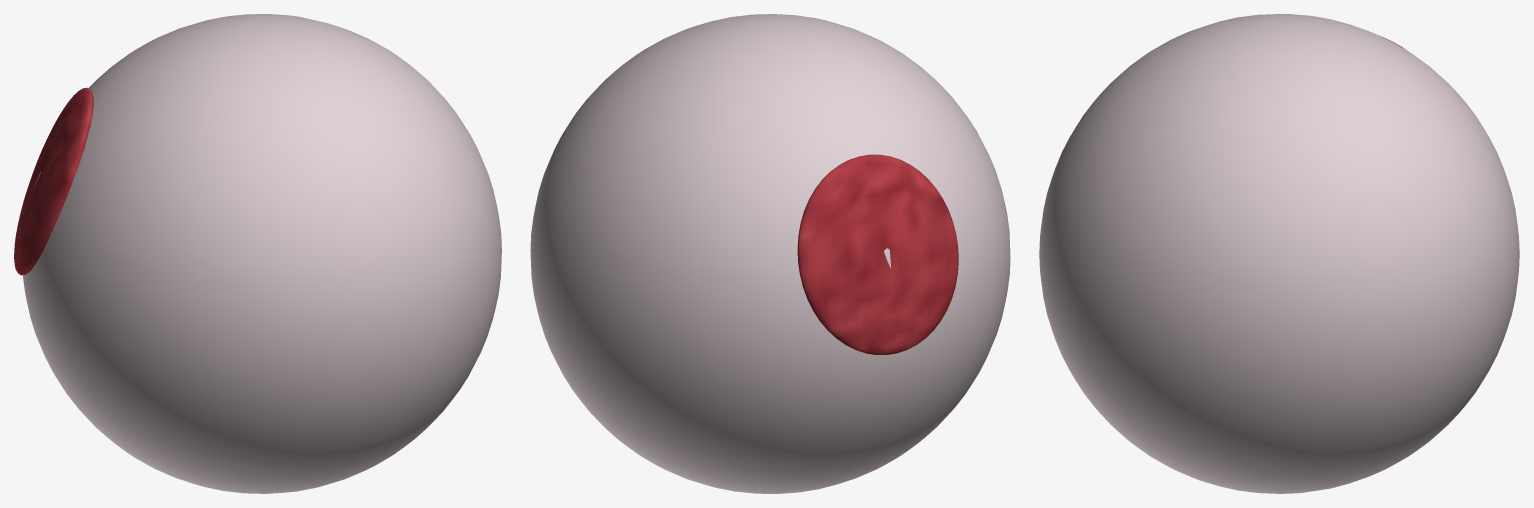
The model's file is hafta_40.glb.
The picture shows the model from 3 angles, left to right: view 1: azimuth 30°, elevation 25°; view 2: azimuth 150°, elevation 25°; view 3: azimuth 270°, elevation 25°; orthographic projection.
Visible parts, largest first — view 1: Amniyon_kesesi, Plasenta; view 2: Amniyon_kesesi, Plasenta; view 3: Amniyon_kesesi.
Boxes of the visible parts, box(x1,y1,x2,y2) form: Amniyon_kesesi: box(22, 14, 501, 493); Plasenta: box(14, 87, 93, 275); Amniyon_kesesi: box(530, 14, 1010, 493); Plasenta: box(797, 154, 958, 354); Amniyon_kesesi: box(1039, 14, 1519, 493).
Bounding box in the file's own units: 1.71 × 1.71 × 1.71.
